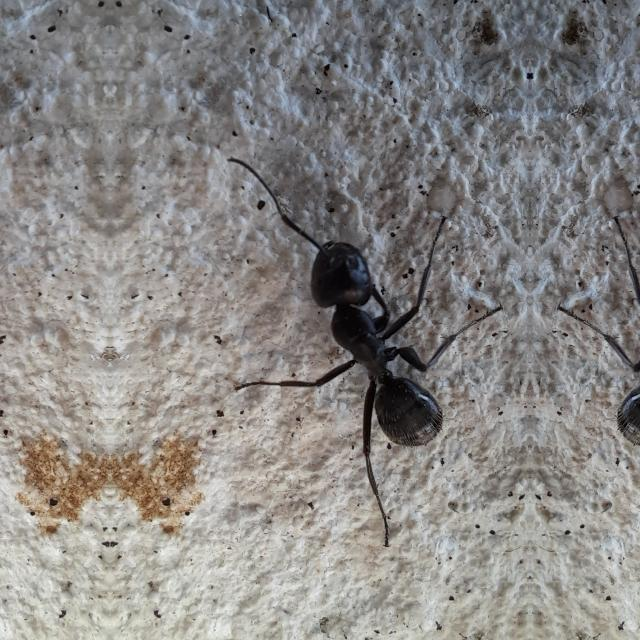Tetramorium: (228, 132, 480, 476), (578, 130, 640, 476)
